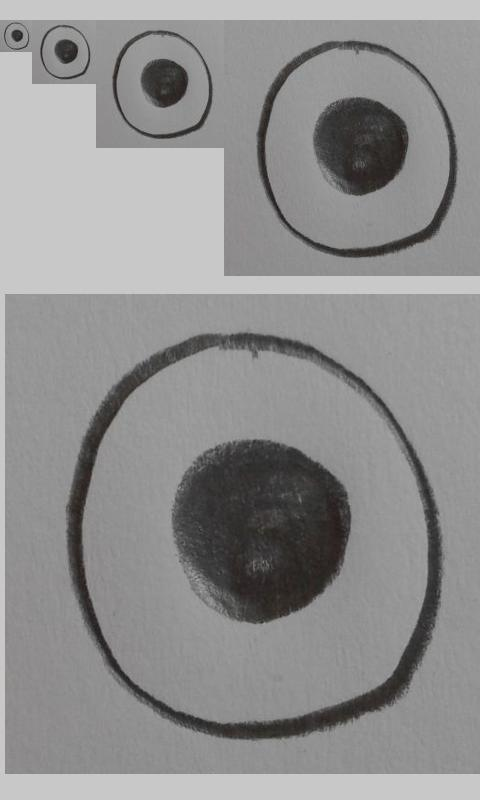radio_button: (64, 330, 444, 743), (256, 39, 458, 257), (110, 27, 213, 140), (39, 23, 91, 80), (3, 21, 30, 50)
